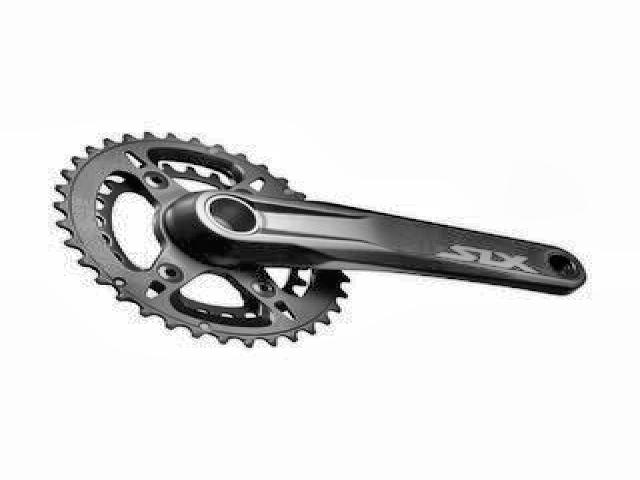cranks_set: (53, 132, 587, 351)
